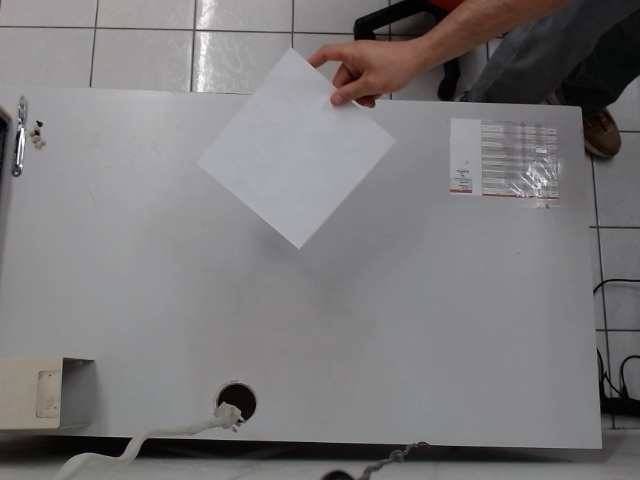divisor: (195, 46, 393, 250)
